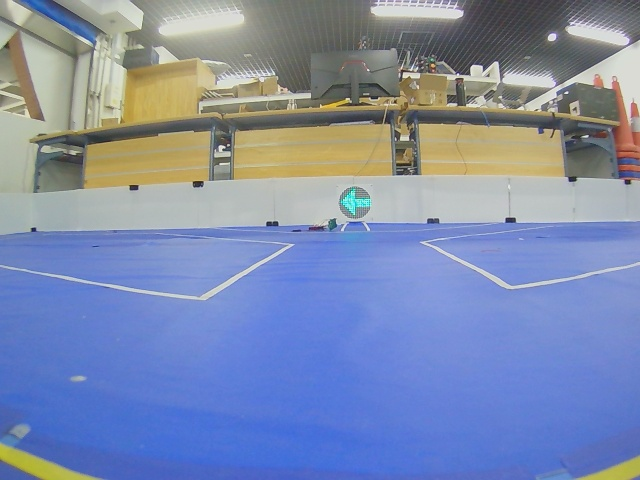left_green: (339, 186, 372, 220)
